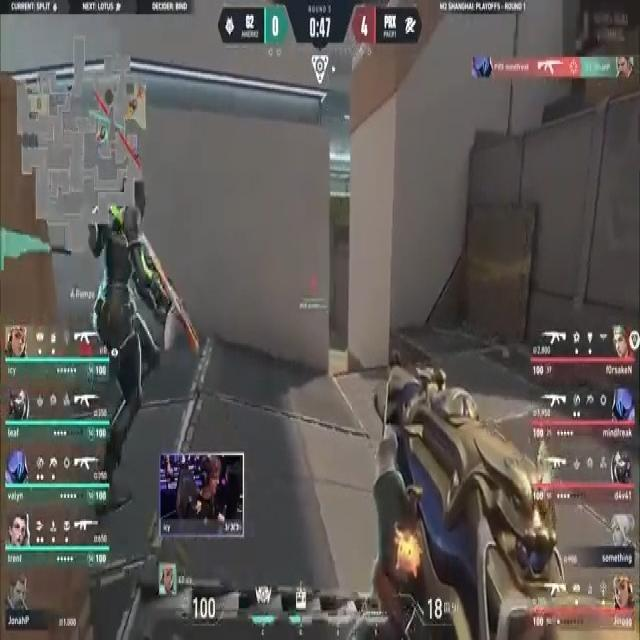ally: (85, 168, 203, 525)
